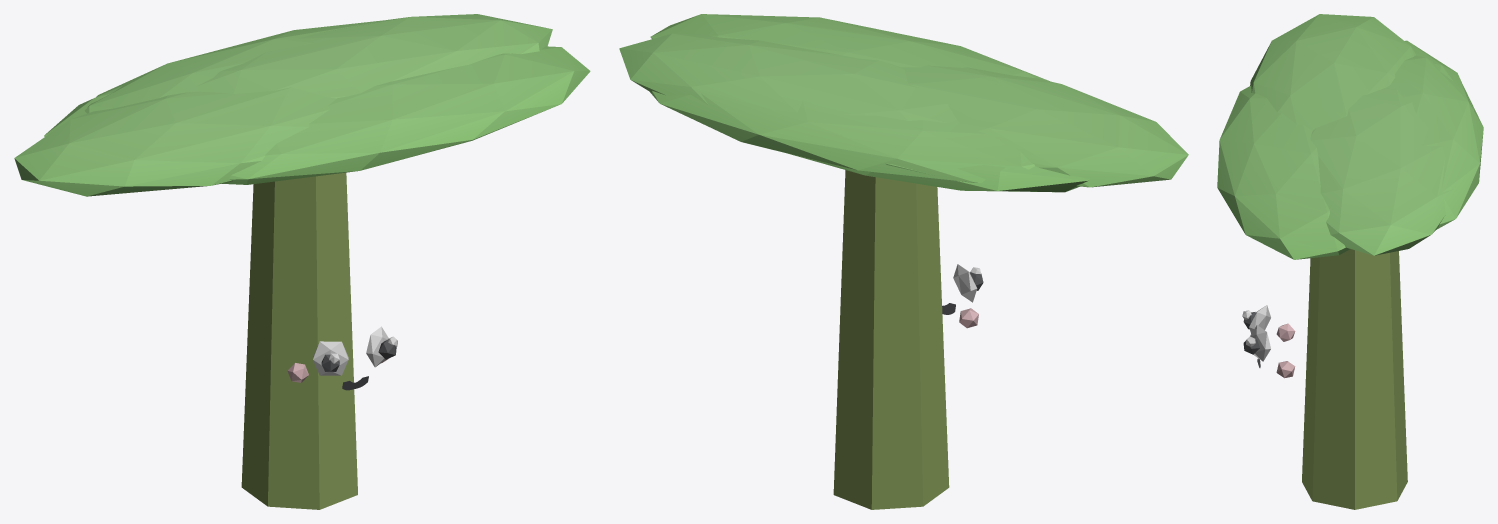
Rendered from canna-indica.glb.
3 renders of one model, left to right at view 1: azimuth 30°, elevation 25°; view 2: azimuth 150°, elevation 25°; view 3: azimuth 270°, elevation 25°, orthographic. The views are drawn at different scales.
Visible parts, largest first — view 1: pseudostem, leaf2, leaf1, leaf0, leaf3, pface-eye-r; view 2: pseudostem, leaf2, leaf0, leaf3, leaf1, leaf4; view 3: pseudostem, leaf0, leaf1, leaf2, leaf3, pface-eye-l, leaf4, pface-eye-r.
Part boxes in pixels (left/top/right/bottom): pseudostem: left=241, top=172, right=357, bottom=509; leaf2: left=14, top=87, right=336, bottom=196; leaf1: left=221, top=46, right=590, bottom=184; leaf0: left=196, top=14, right=552, bottom=98; leaf3: left=84, top=19, right=392, bottom=113; pface-eye-r: left=313, top=341, right=348, bottom=375; pseudostem: left=833, top=170, right=949, bottom=509; leaf2: left=901, top=65, right=1188, bottom=187; leaf0: left=619, top=33, right=956, bottom=123; leaf3: left=650, top=91, right=1034, bottom=182; leaf1: left=650, top=14, right=1049, bottom=81; leaf4: left=790, top=154, right=1089, bottom=192; pseudostem: left=1302, top=249, right=1407, bottom=509; leaf0: left=1310, top=87, right=1453, bottom=255; leaf1: left=1217, top=85, right=1349, bottom=259; leaf2: left=1250, top=14, right=1415, bottom=130; leaf3: left=1386, top=55, right=1483, bottom=229; pface-eye-l: left=1250, top=325, right=1270, bottom=361; leaf4: left=1405, top=40, right=1473, bottom=110; pface-eye-r: left=1249, top=305, right=1270, bottom=333.
Bounding box in the file's own units: 0.6235 × 0.446 × 0.2941.
